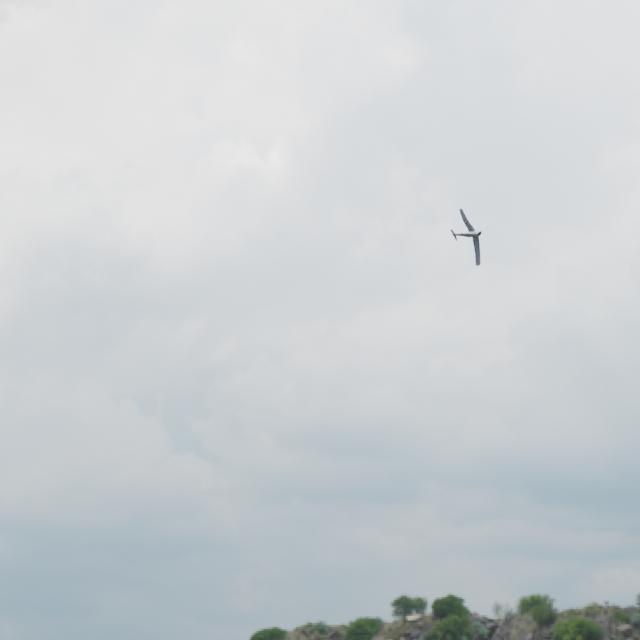Airaplan: (450, 208, 482, 266)
